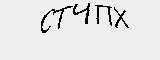П: (94, 2, 116, 29)
С: (37, 6, 55, 34)
Т: (51, 5, 71, 31)
Х: (114, 7, 130, 32)
Ч: (69, 1, 95, 27)
